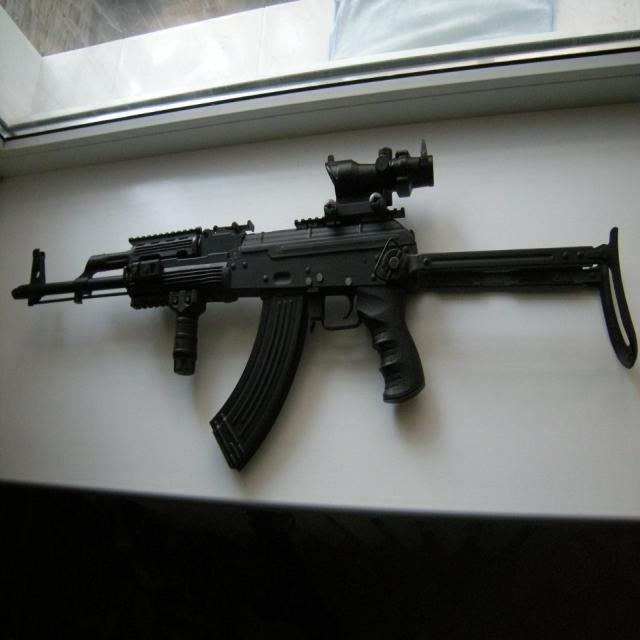firearm: (15, 146, 635, 472)
